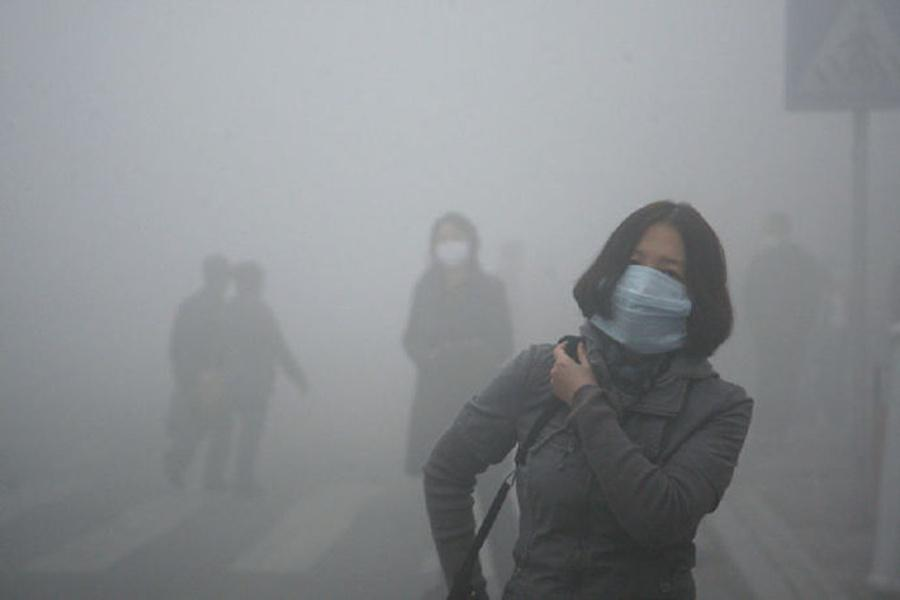person: (422, 199, 755, 600), (401, 212, 532, 599), (196, 261, 309, 494), (740, 209, 823, 467), (160, 258, 250, 487)
